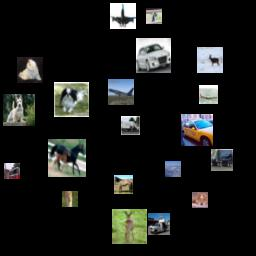airplane: (110, 3, 136, 29), (108, 79, 134, 105), (199, 85, 218, 104), (165, 161, 181, 177)
automobile: (136, 38, 171, 73), (181, 114, 213, 146)
bird: (146, 8, 162, 24)
cat: (192, 192, 208, 208)
deer: (112, 209, 147, 244), (197, 47, 223, 73), (62, 191, 78, 207)
dog: (54, 82, 89, 117), (3, 94, 35, 126), (17, 57, 43, 83)
truck: (211, 149, 233, 171), (148, 213, 170, 235), (121, 116, 140, 135), (4, 163, 20, 179)
